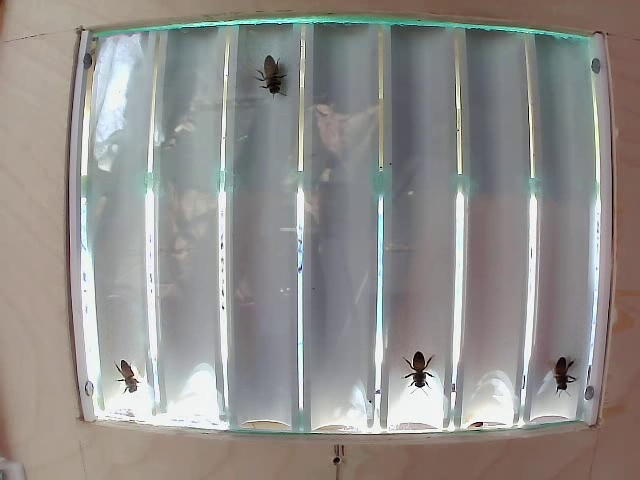bee: (391, 340, 446, 399), (537, 344, 573, 394), (261, 45, 290, 96)
